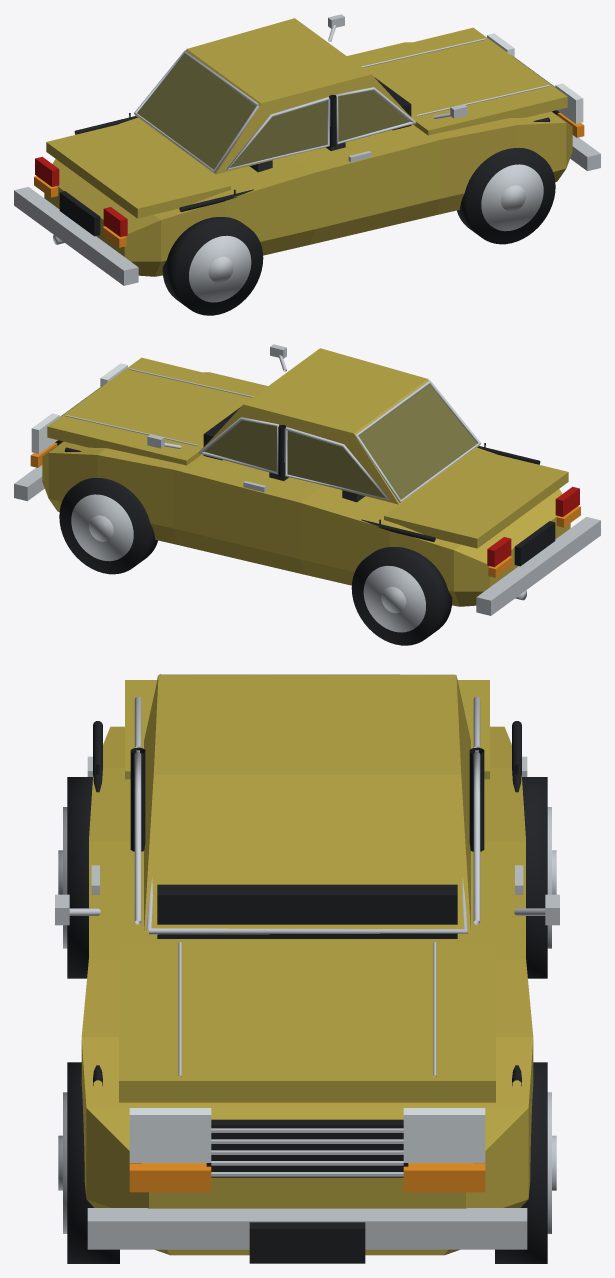
File: 1970s-french-coupe-inspired-v2.glb
3 renders of one model, top to bottom at view 1: azimuth 30°, elevation 25°; view 2: azimuth 150°, elevation 25°; view 3: azimuth 270°, elevation 25°, orthographic. The views are drawn at different scales.
Visible parts, largest first — view 1: One-piece coupe body, Coupe roof, Long sculpted hood, Short trunk lid, Rear windshield, Radial tyre.002, Radial tyre, Rear chrome bumper, Left rear side window, Steel wheel, Steel wheel.002, Left front side window (+11 smaller); view 2: One-piece coupe body, Coupe roof, Long sculpted hood, Short trunk lid, Rear windshield, Radial tyre.003, Radial tyre.001, Rear chrome bumper, Right rear side window, Steel wheel.001, Steel wheel.003, Right front side window (+11 smaller); view 3: Coupe roof, Long sculpted hood, One-piece coupe body, Front chrome bumper, Dashboard, Black front grille, Front rubber overrider, Rectangular sealed beam, Rectangular sealed beam.001, Radial tyre.002, Radial tyre.003, Radial tyre (+16 smaller).
Boxes of the visible parts, left/top/right/bottom form: One-piece coupe body: left=44, top=42, right=572, bottom=276; Coupe roof: left=134, top=18, right=416, bottom=174; Long sculpted hood: left=349, top=27, right=567, bottom=135; Short trunk lid: left=46, top=119, right=230, bottom=218; Rear windshield: left=137, top=53, right=255, bottom=169; Radial tyre.002: left=162, top=217, right=263, bottom=315; Radial tyre: left=457, top=148, right=555, bottom=244; Rear chrome bumper: left=14, top=187, right=138, bottom=285; Left rear side window: left=229, top=101, right=327, bottom=167; Steel wheel: left=481, top=164, right=543, bottom=231; Steel wheel.002: left=189, top=235, right=251, bottom=302; Left front side window: left=338, top=90, right=410, bottom=141; One-piece coupe body: left=42, top=372, right=570, bottom=606; Coupe roof: left=198, top=348, right=480, bottom=504; Long sculpted hood: left=47, top=357, right=265, bottom=465; Short trunk lid: left=384, top=449, right=568, bottom=548; Rear windshield: left=358, top=384, right=477, bottom=499; Radial tyre.003: left=351, top=547, right=452, bottom=645; Radial tyre.001: left=59, top=478, right=157, bottom=574; Rear chrome bumper: left=476, top=517, right=600, bottom=615; Right rear side window: left=287, top=431, right=385, bottom=497; Steel wheel.001: left=71, top=494, right=133, bottom=561; Steel wheel.003: left=363, top=565, right=425, bottom=632; Right front side window: left=204, top=420, right=276, bottom=471; Coupe roof: left=144, top=675, right=470, bottom=932; Long sculpted hood: left=119, top=945, right=495, bottom=1102; One-piece coupe body: left=81, top=726, right=533, bottom=1255; Front chrome bumper: left=87, top=1208, right=527, bottom=1249; Dashboard: left=157, top=884, right=457, bottom=938; Black front grille: left=206, top=1119, right=408, bottom=1177; Front rubber overrider: left=249, top=1222, right=365, bottom=1263; Rectangular sealed beam: left=129, top=1108, right=211, bottom=1162; Rectangular sealed beam.001: left=403, top=1108, right=485, bottom=1162; Radial tyre.002: left=67, top=777, right=92, bottom=978; Radial tyre.003: left=522, top=777, right=547, bottom=978; Radial tyre: left=67, top=1062, right=119, bottom=1263.
Size of what is drawn, in the model's own units: 4.65 by 1.67 by 2.1.
